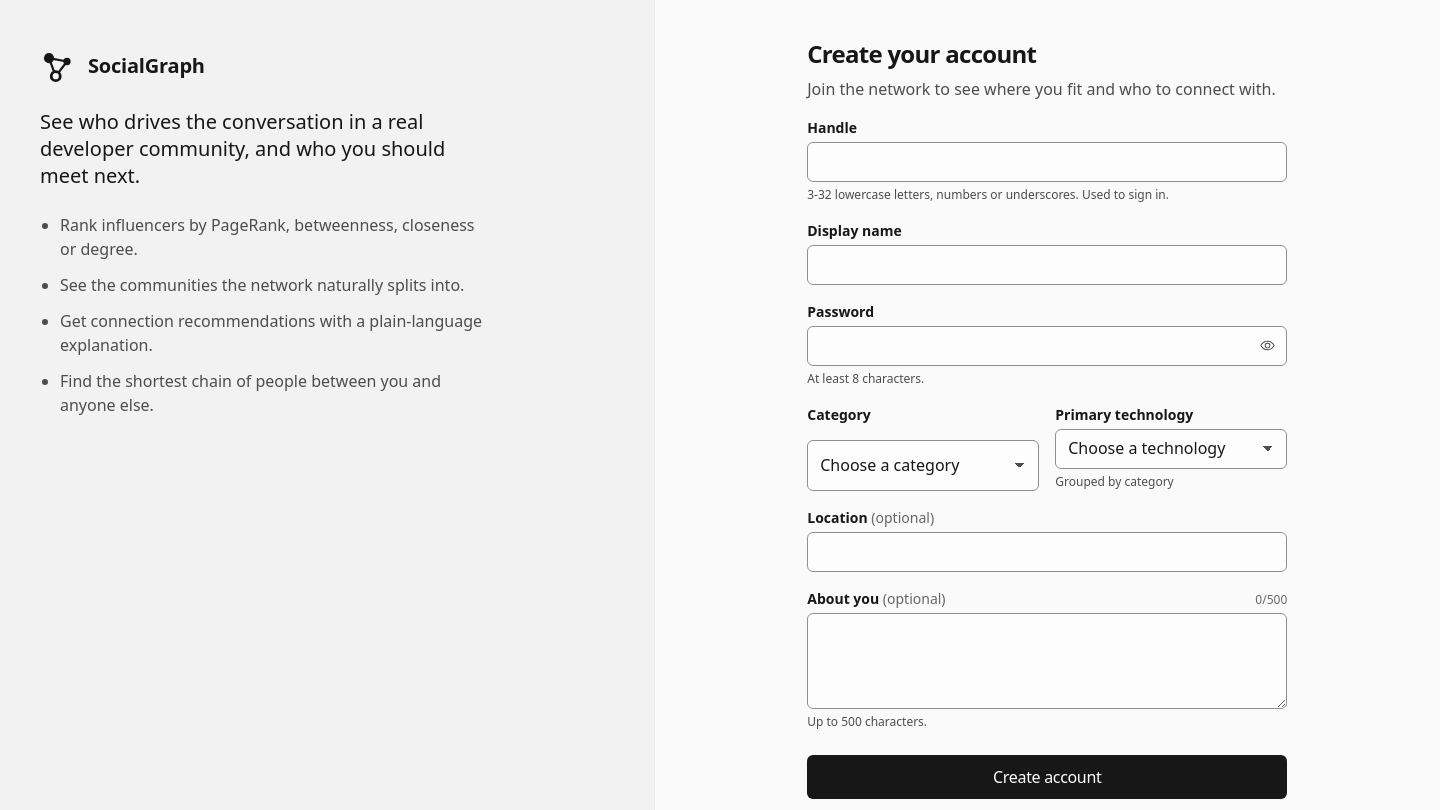
it: Registration › maps server validation errors onto the form
This screenshot has width=1440, height=810.
Expected: the heading "Create your account" is shown, [807, 37, 1036, 70]
Expected: the dropdown labelled "Category" is enabled, [807, 440, 1039, 491]
Type "grace_member" into the field labelled "Handle" at x=1047, y=162, box [807, 142, 1287, 182]
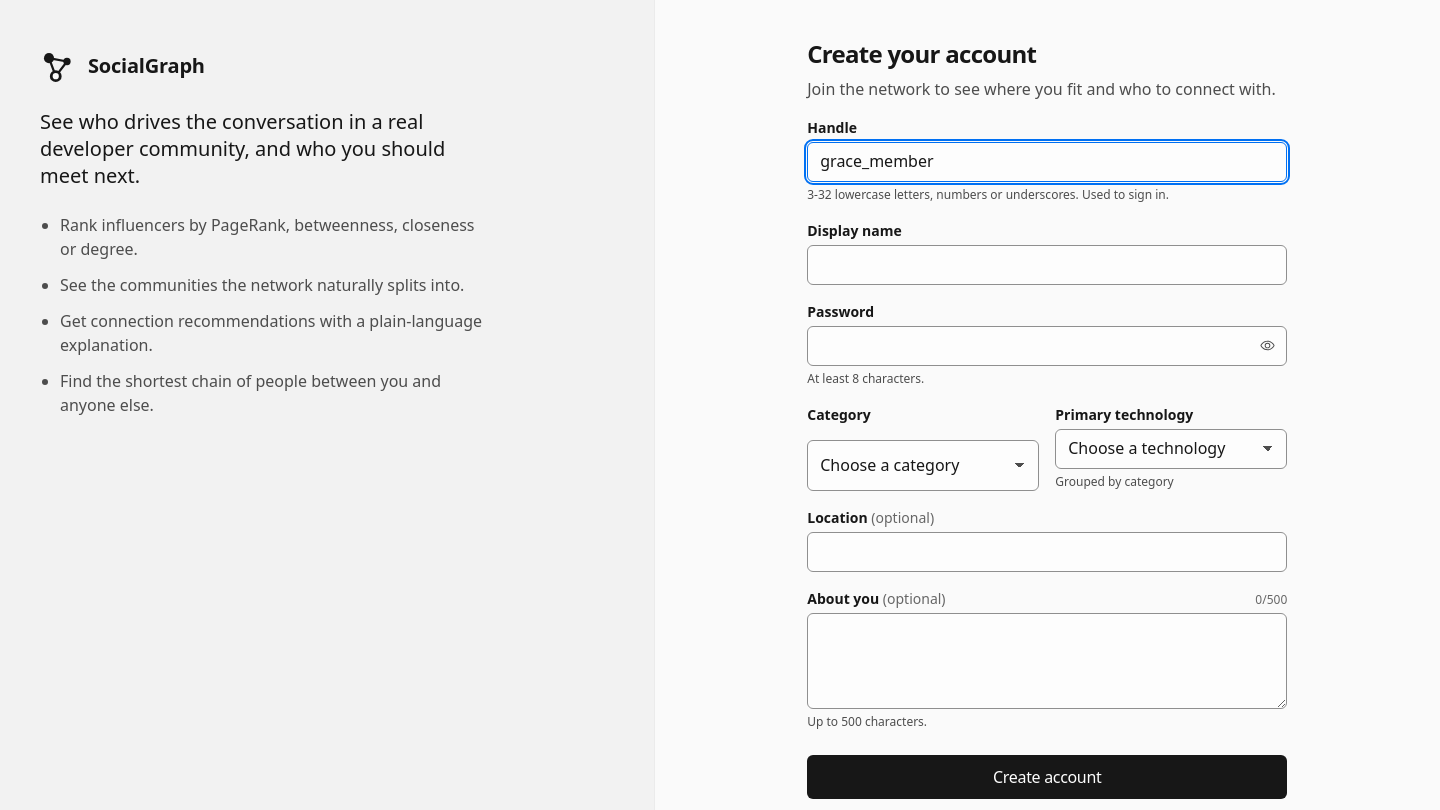
Type "Grace Member" into the field labelled "Display name" at x=1047, y=265, box [807, 245, 1287, 285]
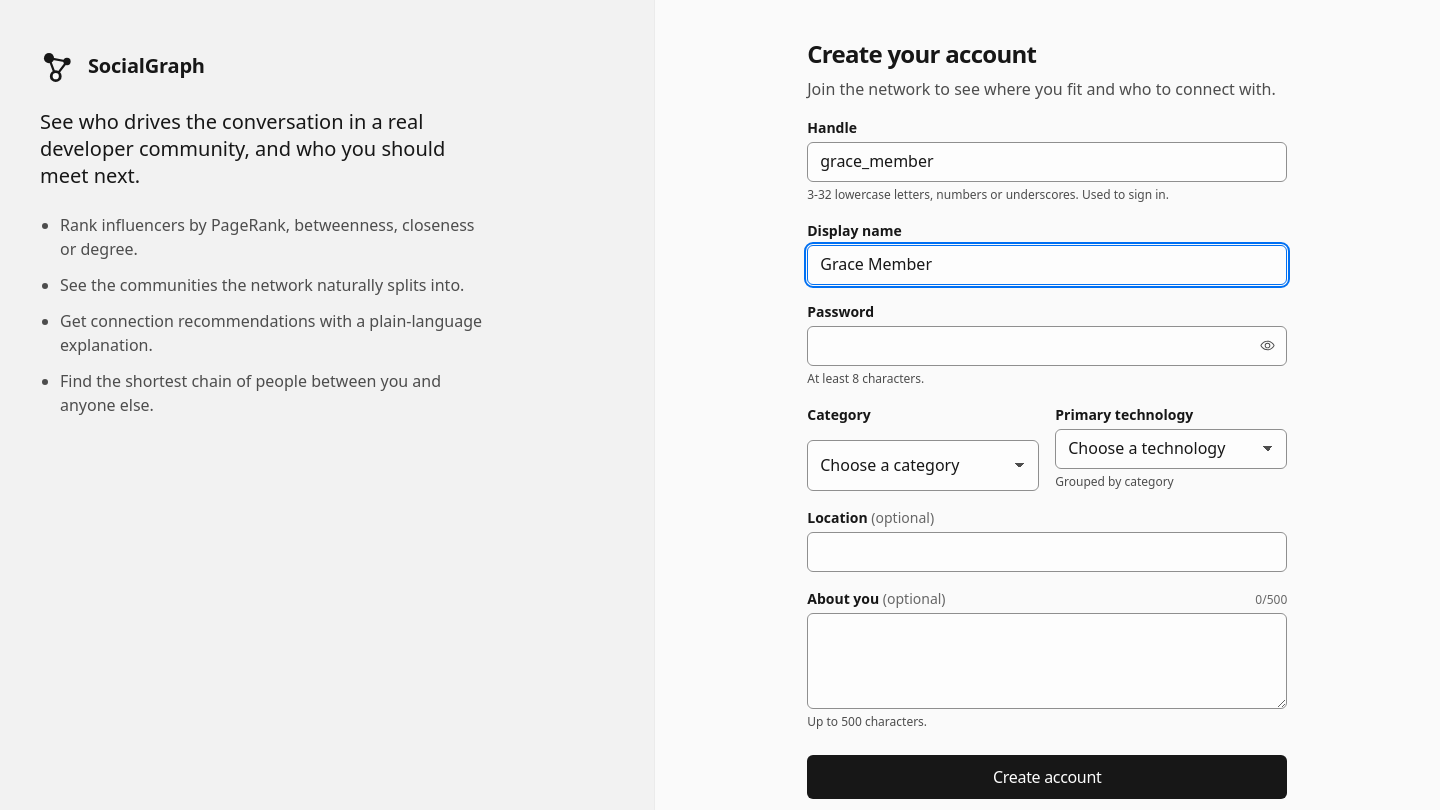
Type "a-long-password" into the password field labelled "Password" at x=1047, y=346, box [807, 326, 1287, 366]
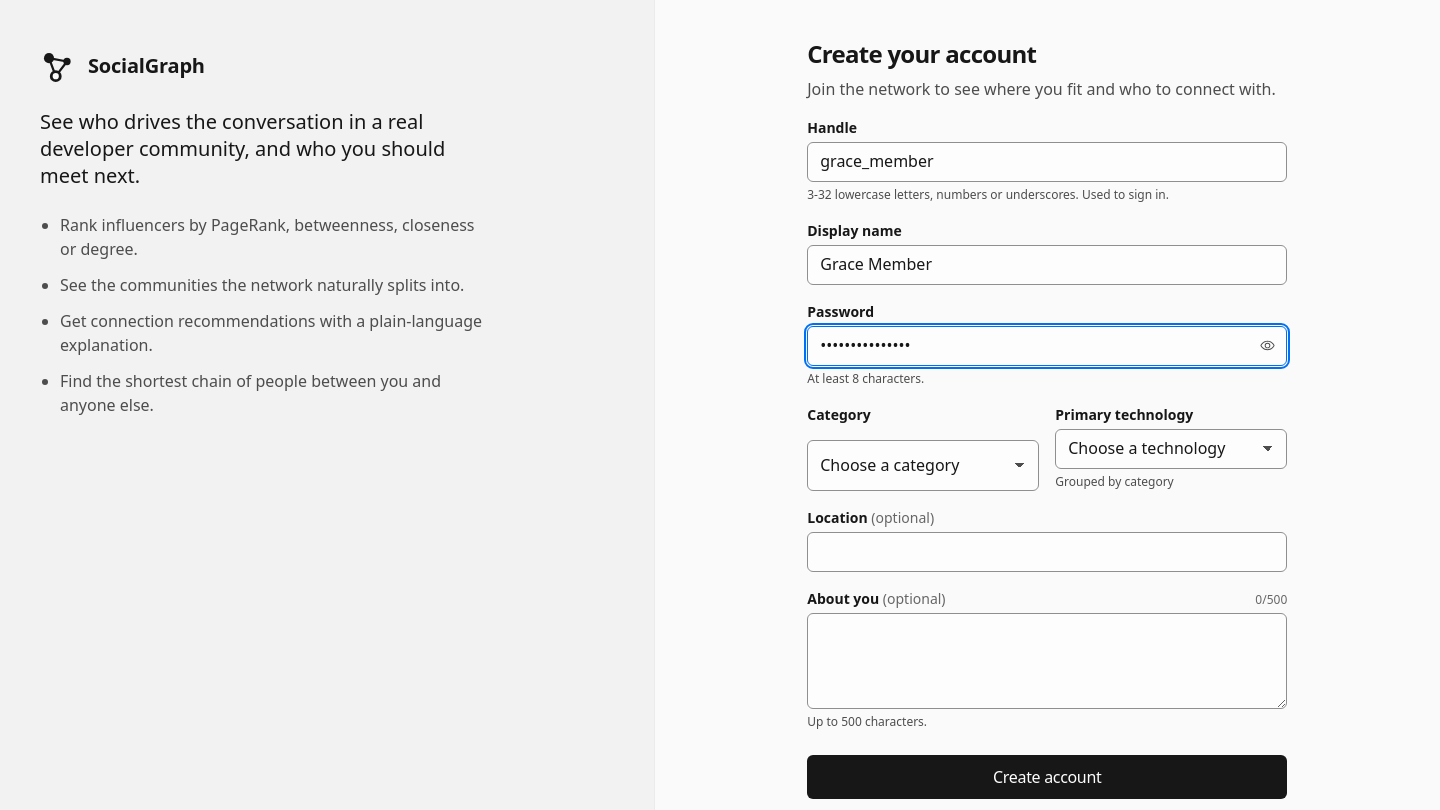
Select "Systems Programming" in the dropdown labelled "Category" at x=923, y=465, box [807, 440, 1039, 491]
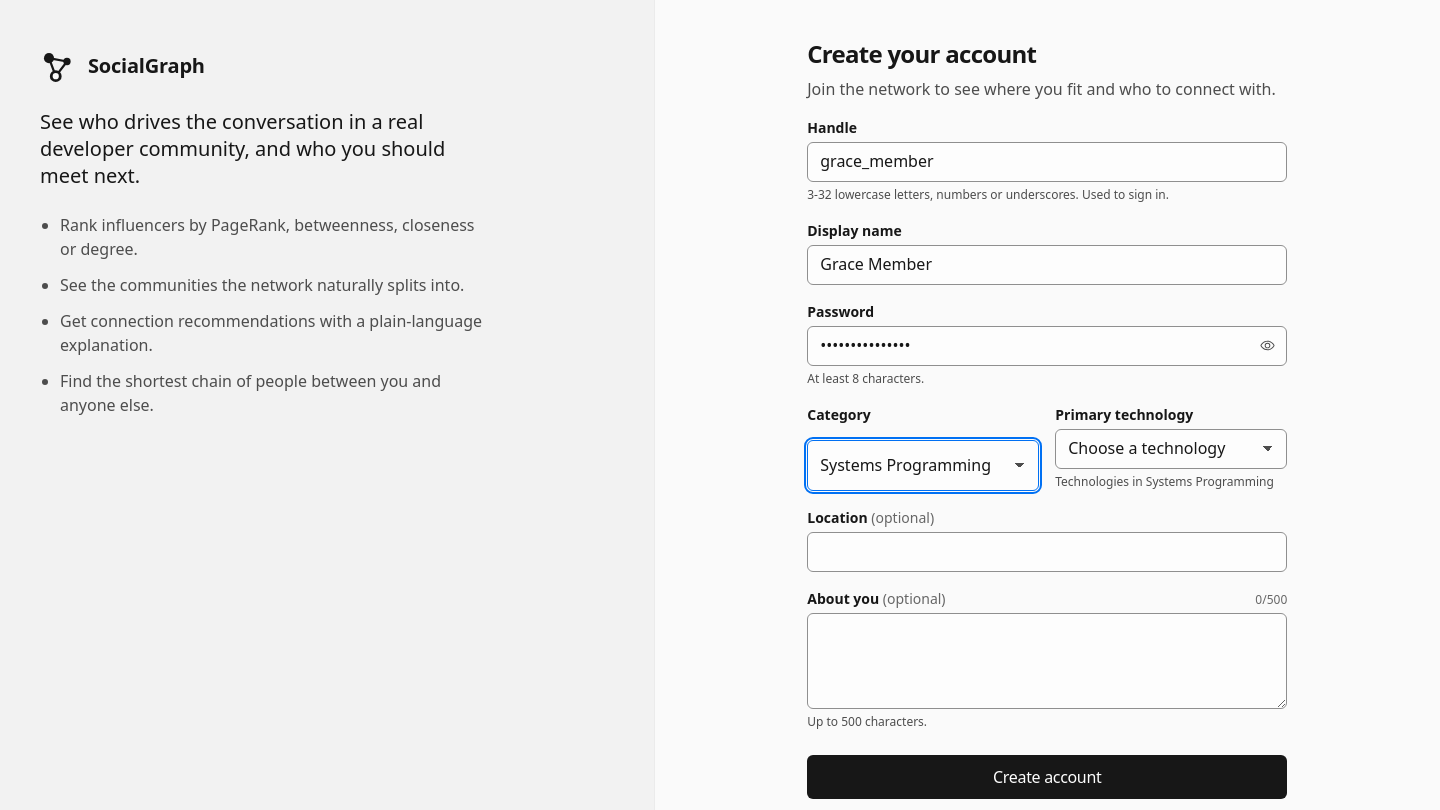
Select "c++" in the dropdown labelled "Primary technology" at x=1171, y=449, box [1055, 429, 1287, 469]
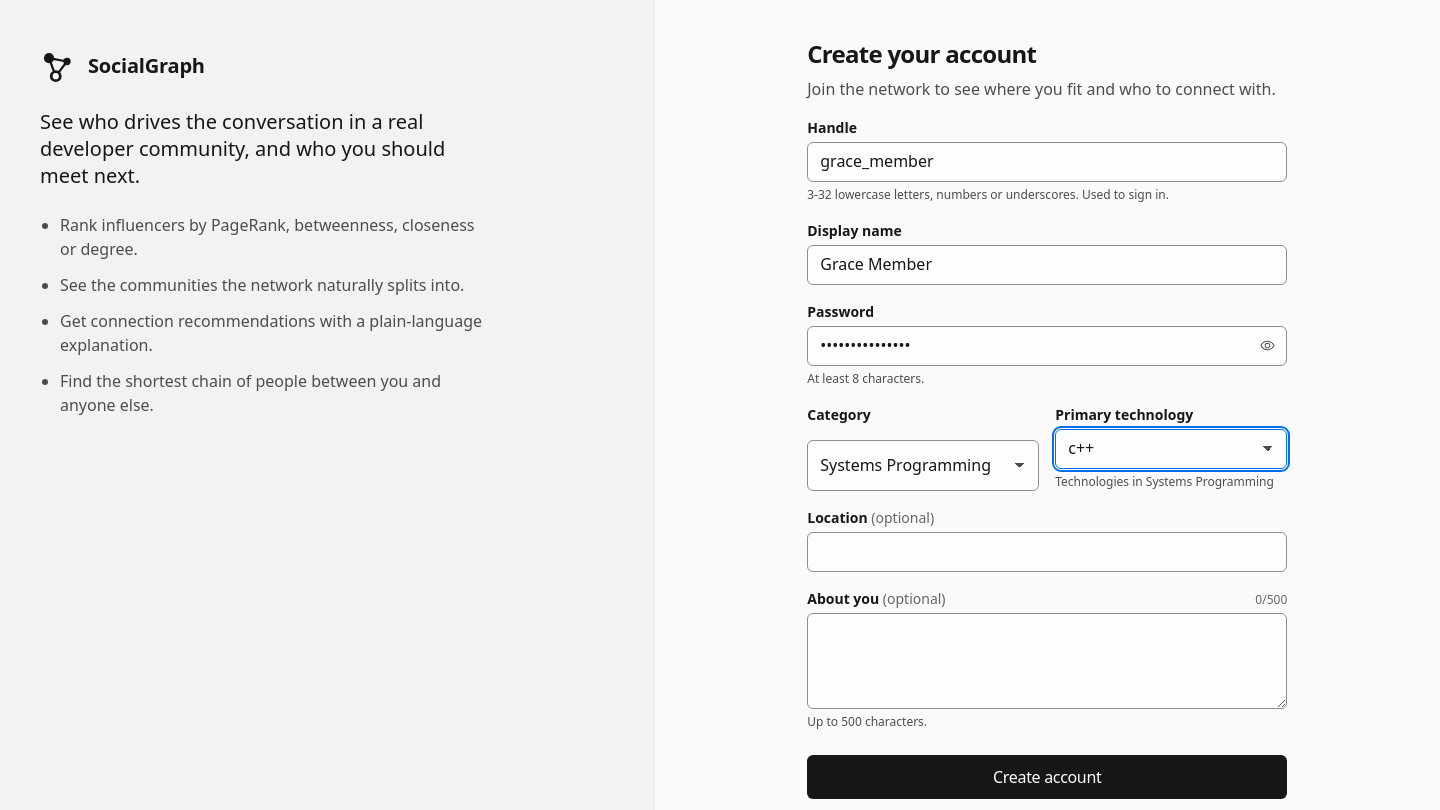
Click the button "Create account" at x=1047, y=777, box [807, 755, 1287, 799]
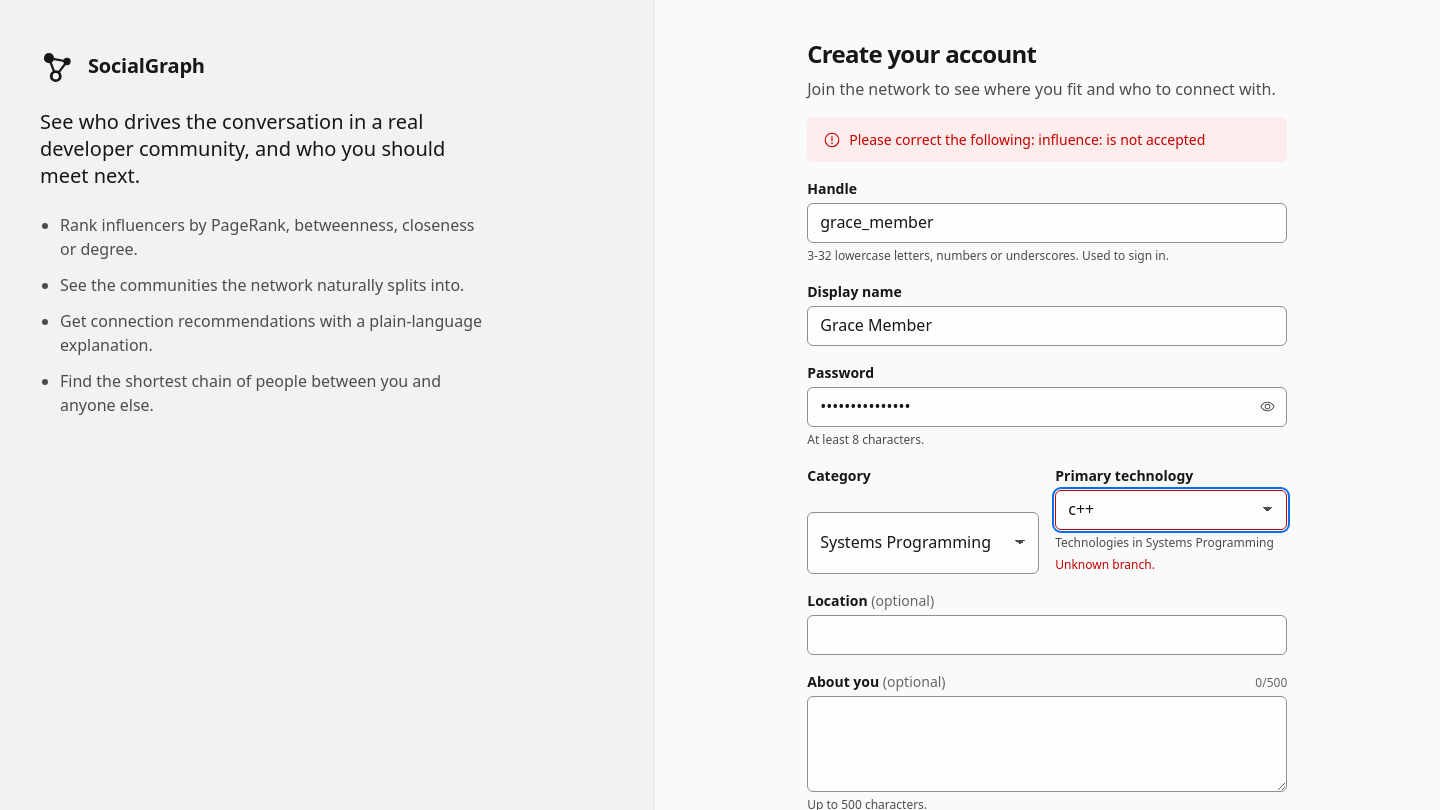
Result: the text "Please correct the following: influence: is not accepted" is shown at [849, 129, 1205, 150]
